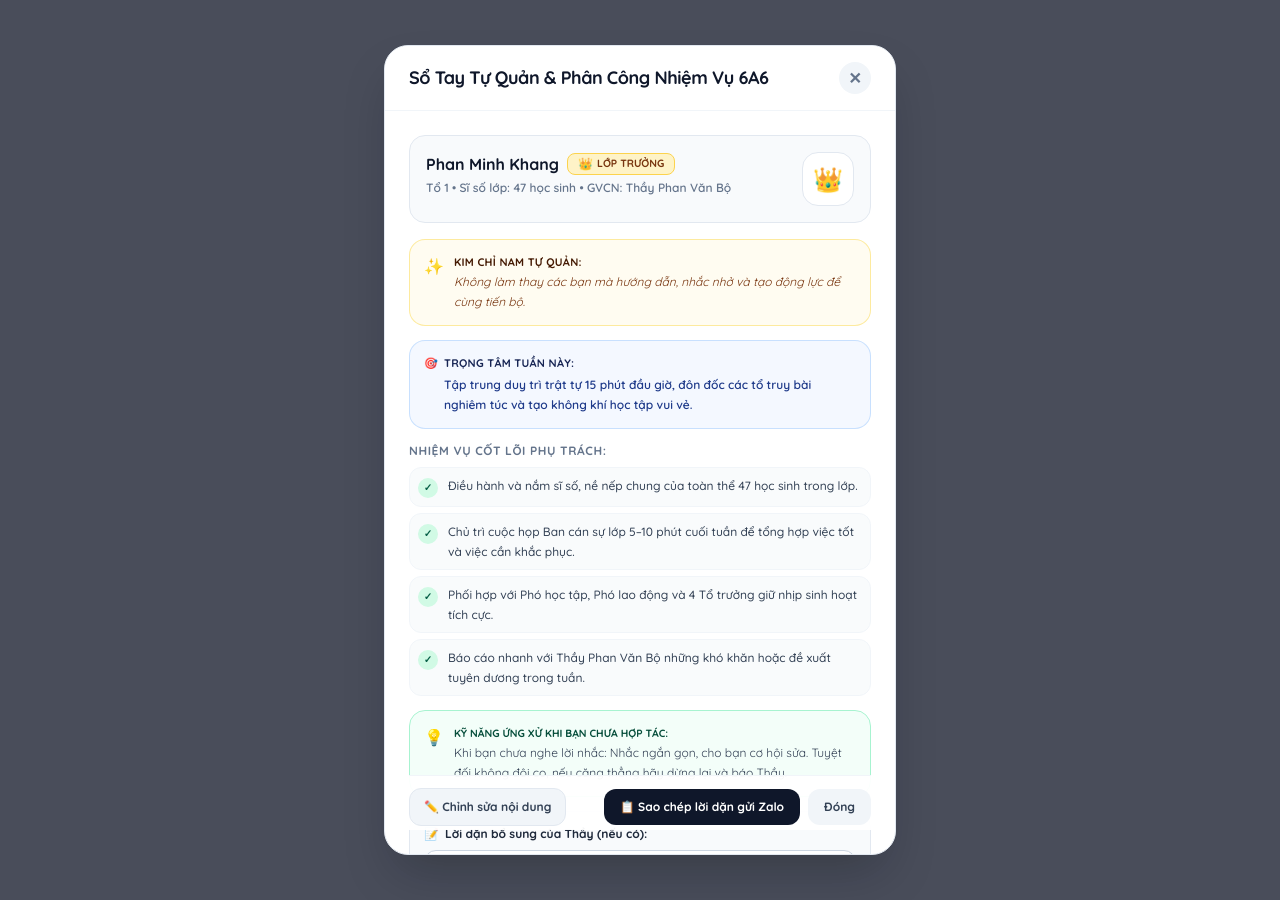
it: OfficerTaskModal Tests › cho phép Thầy bấm nút "Chỉnh sửa nội dung" để sửa toàn văn tin nhắn và khôi phục mẫu gốc
The width and height of the screenshot is (1280, 900).
# Bấm nút "✏️ Chỉnh sửa nội dung"
Click the button "✏️ Chỉnh sửa nội dung" at [488, 807], box left=409, top=788, right=566, bottom=826
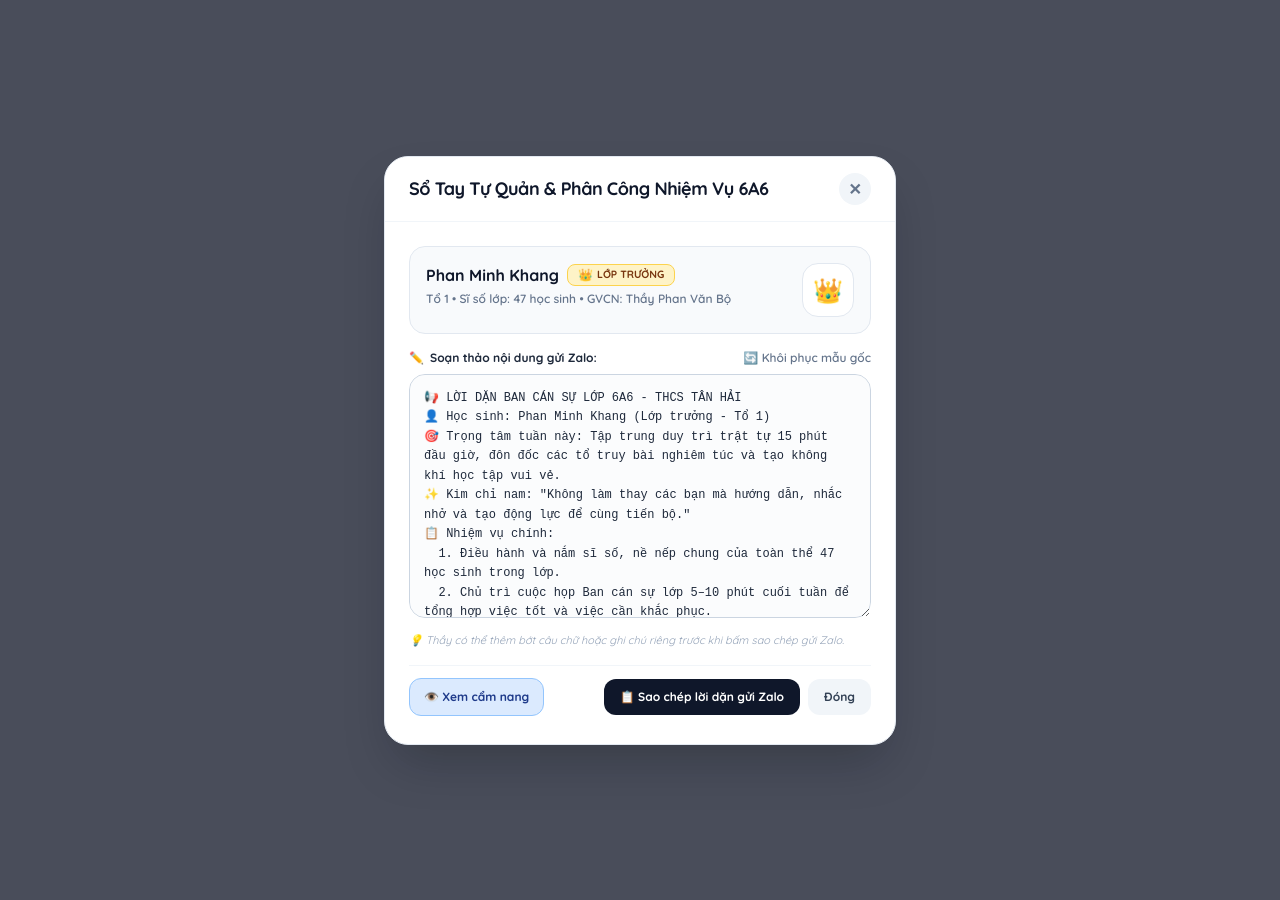
expect the text box named "Nội dung lời dặn gửi Zalo" is shown: met
expect the button "👁️ Xem cẩm nang" is shown: met, box left=409, top=678, right=544, bottom=716
# Thầy sửa nội dung trực tiếp
Replace the text in the text box named "Nội dung lời dặn gửi Zalo" with "Nội dung dặn dò tùy chỉnh đặc biệt của Thầy Phan Văn Bộ" at [640, 496], box left=409, top=374, right=871, bottom=618
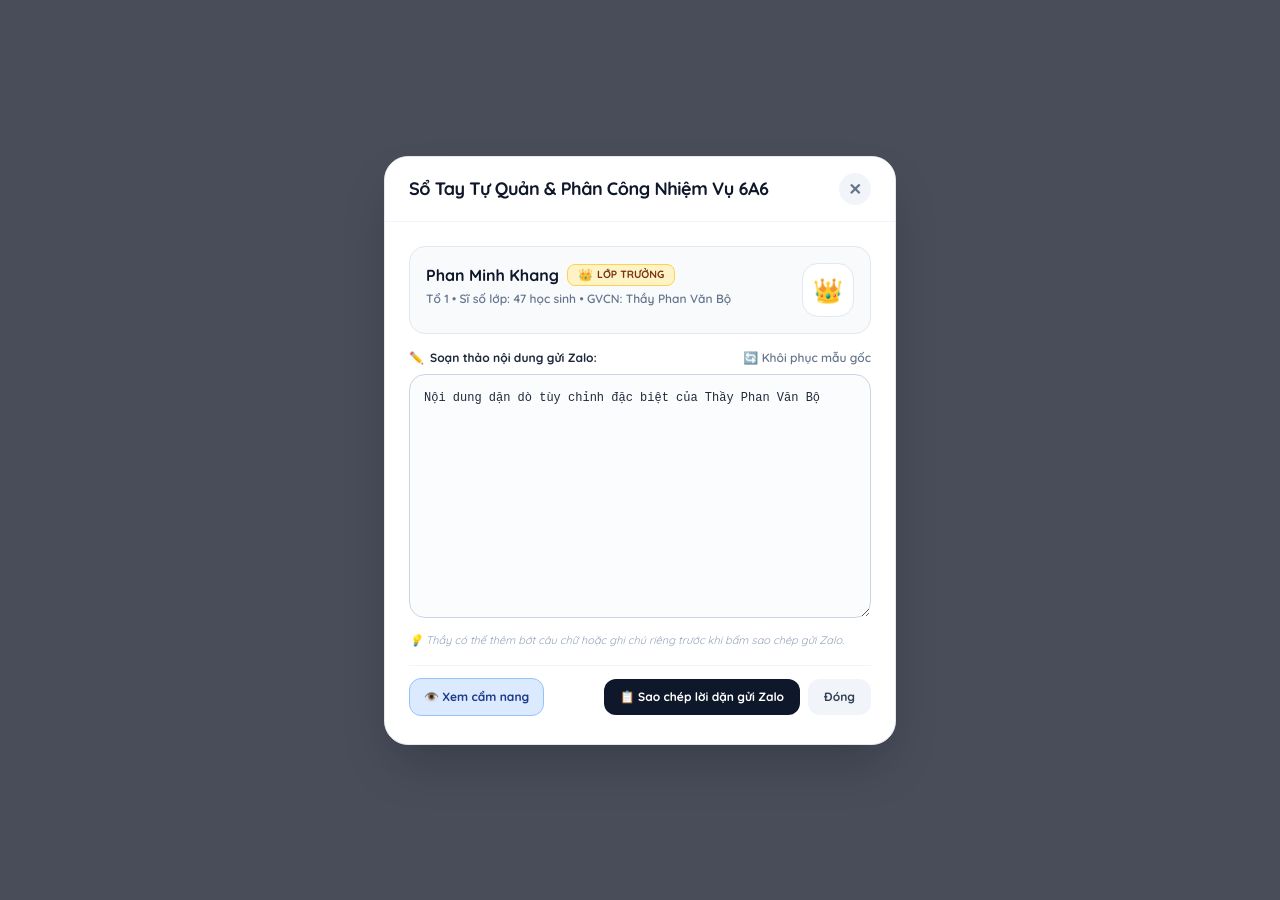
# Bấm sao chép nội dung đã sửa
Click the button "📋 Sao chép lời dặn gửi Zalo" at [702, 696], box left=604, top=678, right=800, bottom=714
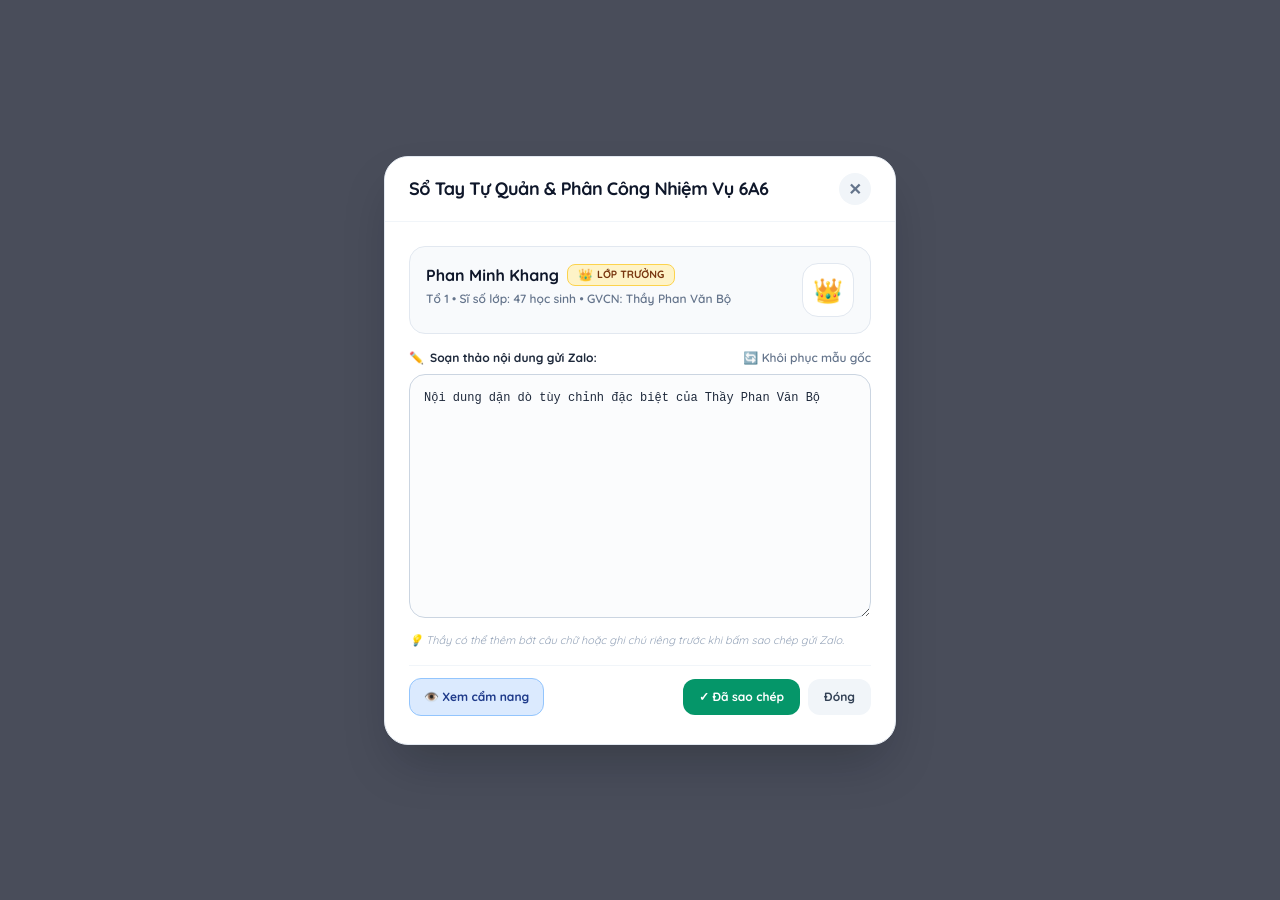
# Bấm "Khôi phục mẫu gốc"
Click the button "🔄 Khôi phục mẫu gốc" at [807, 358], box left=743, top=350, right=871, bottom=366
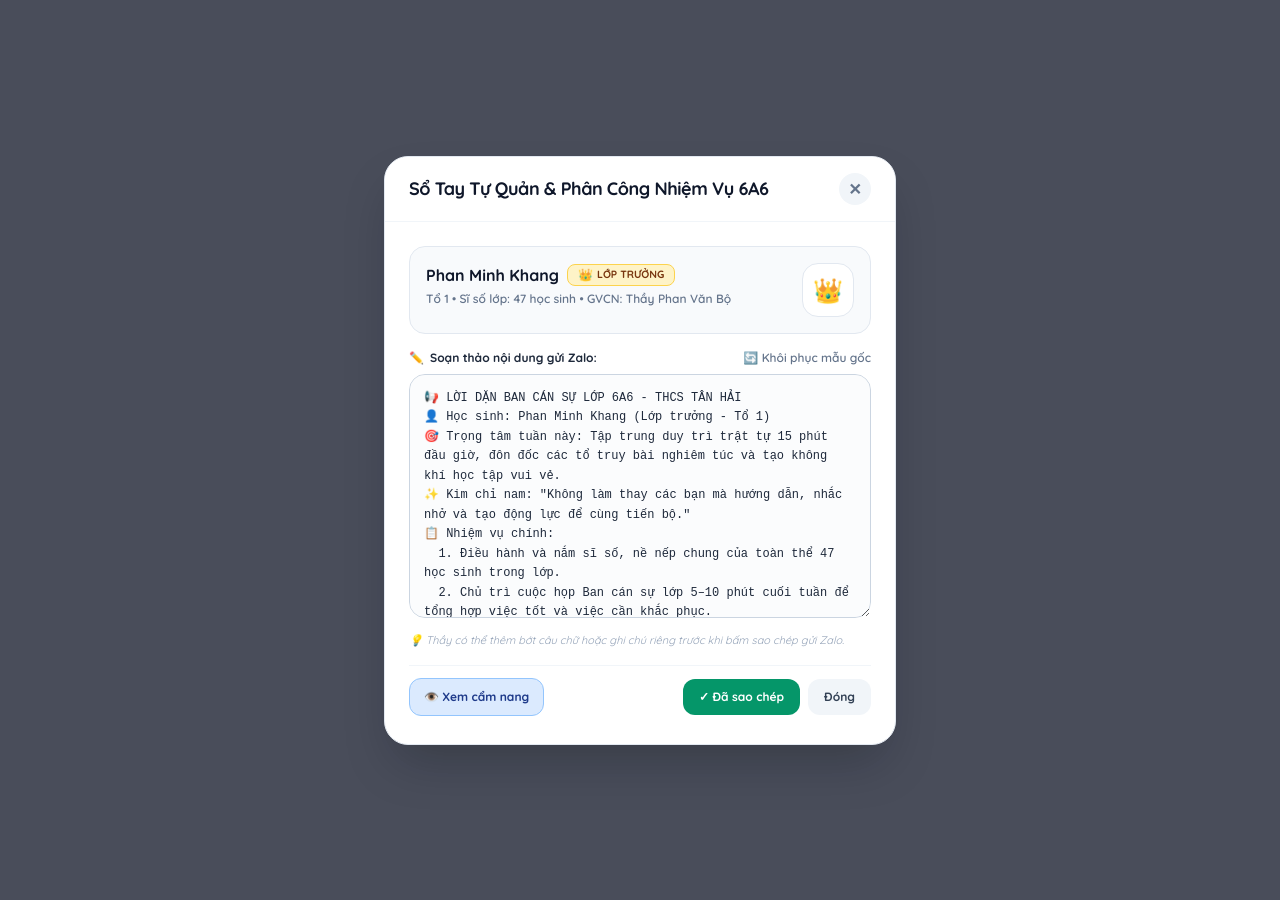
expect the text box named "Nội dung lời dặn gửi Zalo" does not hold "Nội dung dặn dò tùy chỉnh đặc biệt của Thầy Phan Văn Bộ": met, box left=409, top=374, right=871, bottom=618
